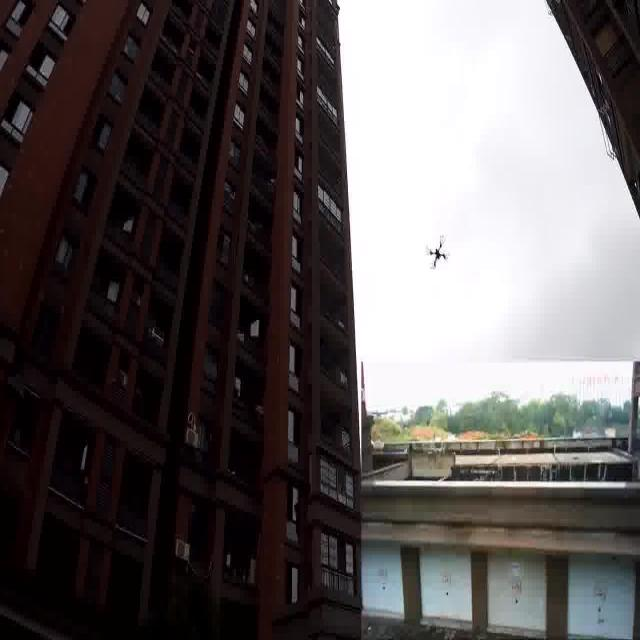drone: (427, 232, 451, 275)
